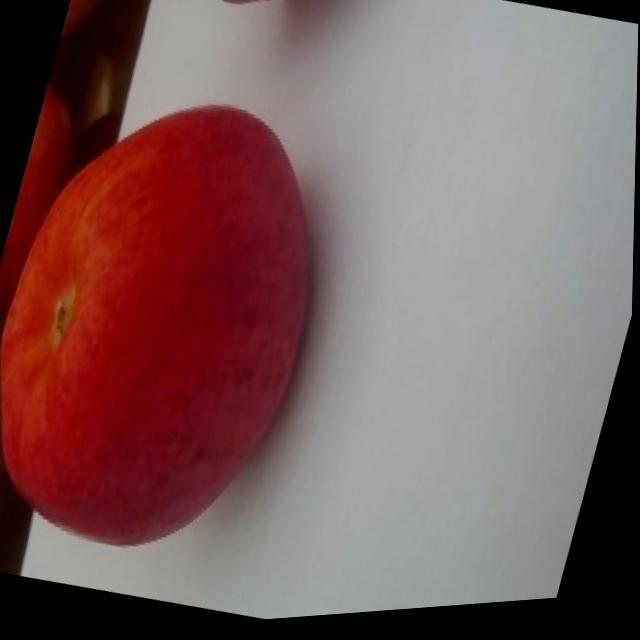Apple: (0, 61, 366, 595), (0, 83, 85, 318), (60, 0, 129, 40)
